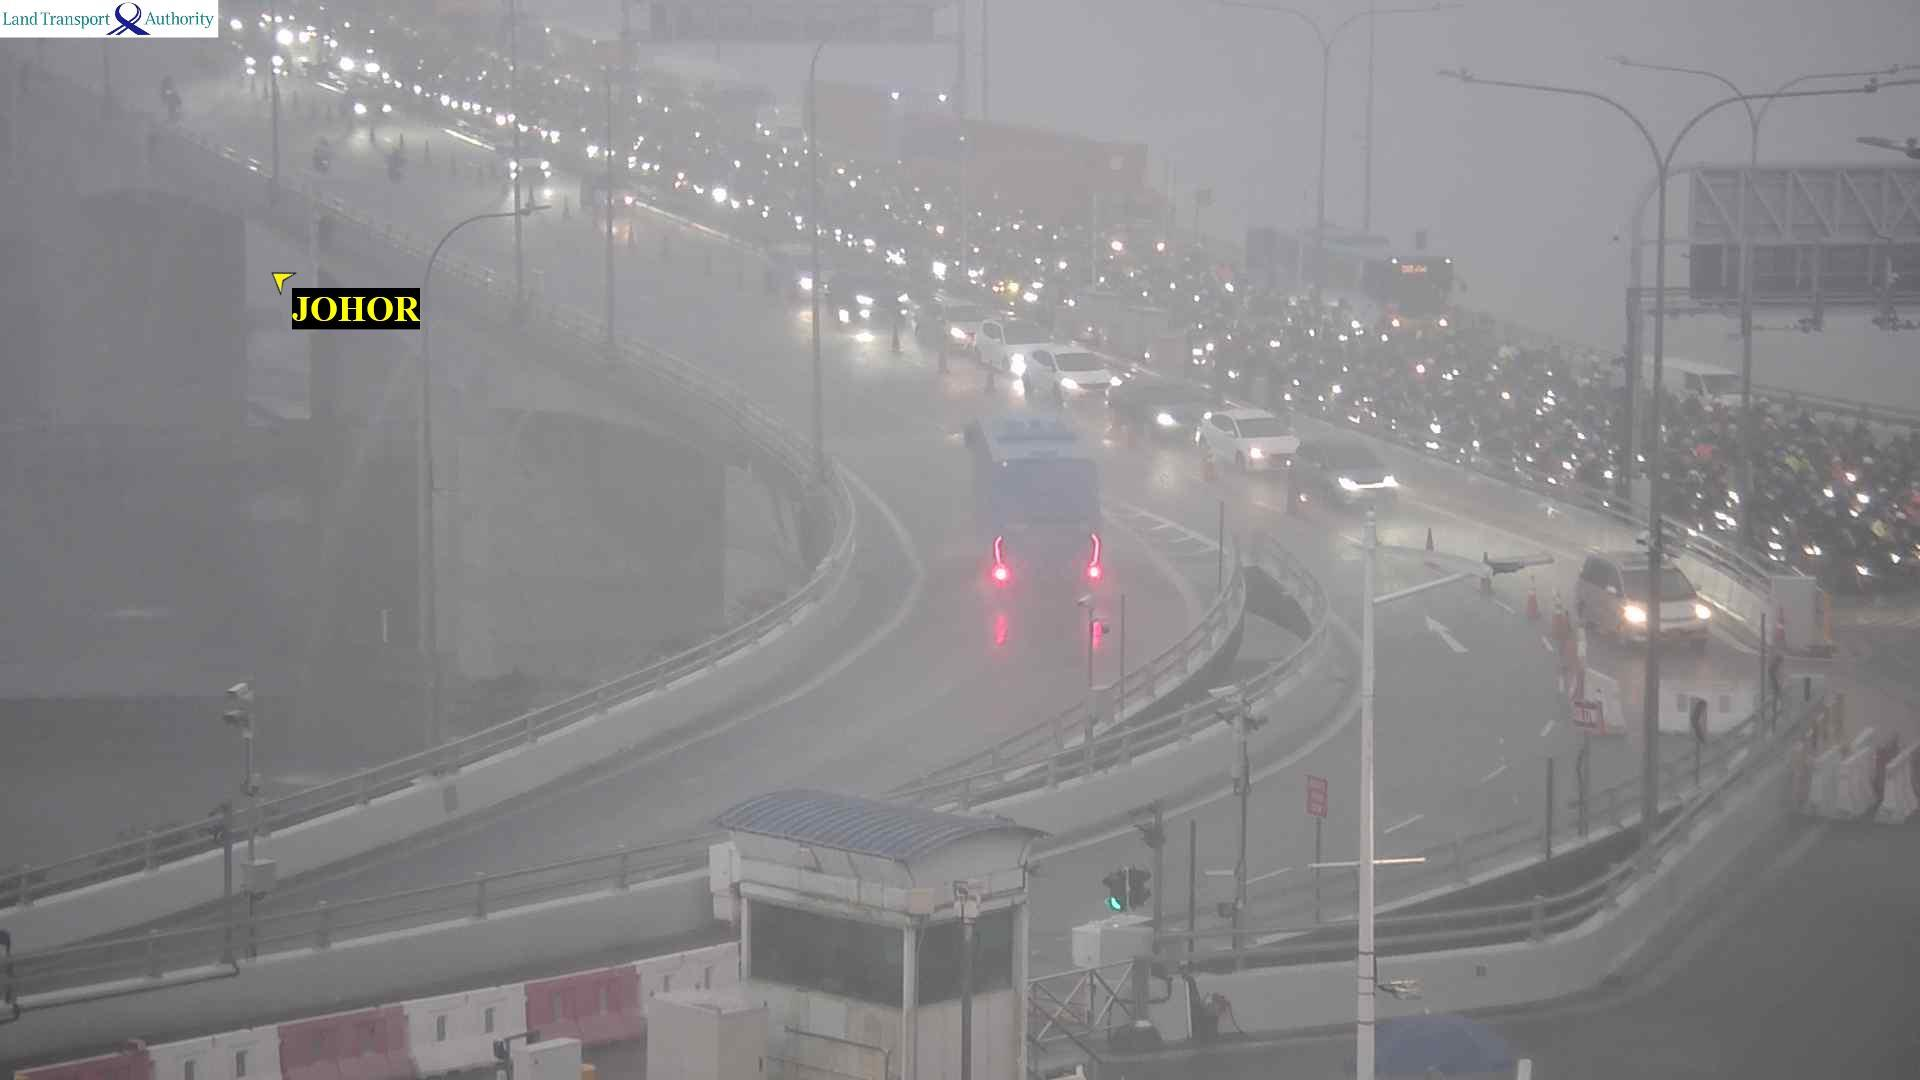vehicle-secondlink-johor: (962, 424, 1097, 579), (382, 147, 404, 182), (315, 132, 330, 173), (163, 75, 177, 117)
vehicle-secondlink-singapore: (908, 142, 1168, 255), (1252, 225, 1453, 336), (807, 81, 958, 174), (1573, 546, 1702, 648), (1192, 409, 1311, 470), (1292, 441, 1392, 507), (1006, 350, 1123, 399), (1638, 364, 1746, 414), (830, 271, 911, 323), (767, 245, 843, 297), (975, 320, 1055, 369), (912, 300, 988, 346), (583, 164, 636, 211), (496, 140, 548, 182), (342, 87, 394, 126), (240, 52, 283, 77)
